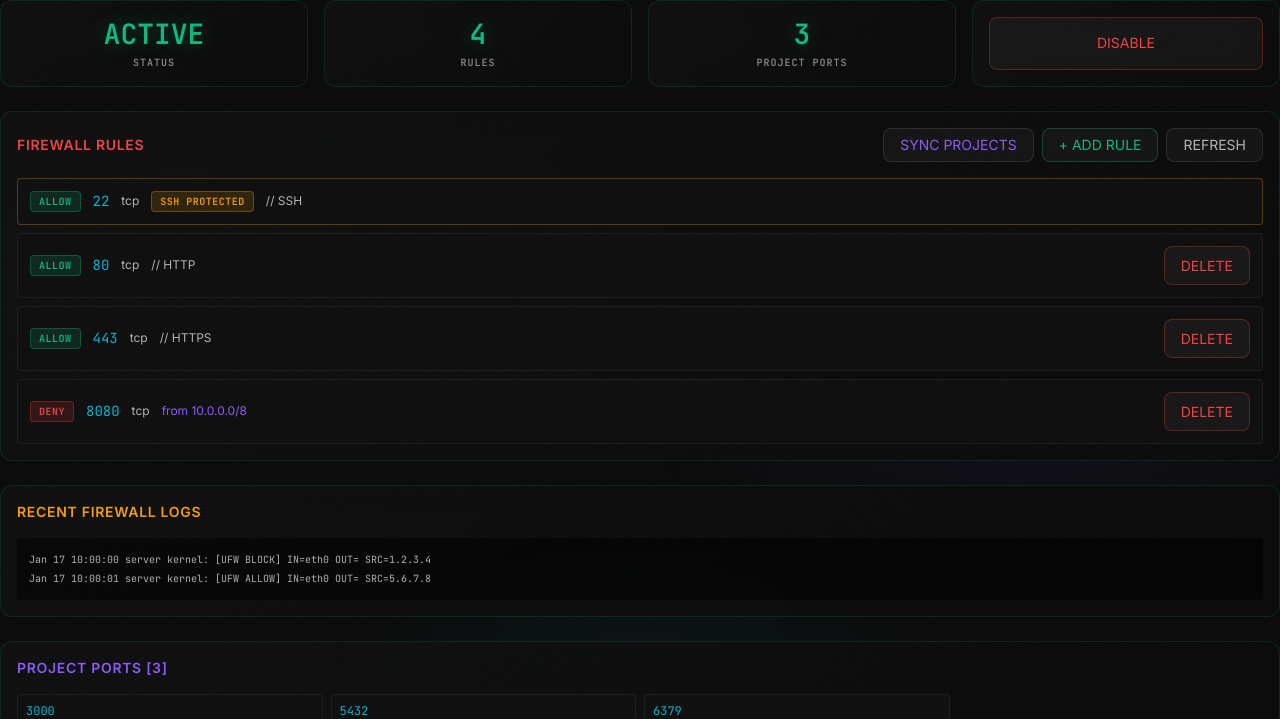
FirewallPane › delete rule › should show success message after deletion
The image size is (1280, 719).
Click the 1st button "DELETE" at (1207, 265), box [1164, 246, 1250, 285]
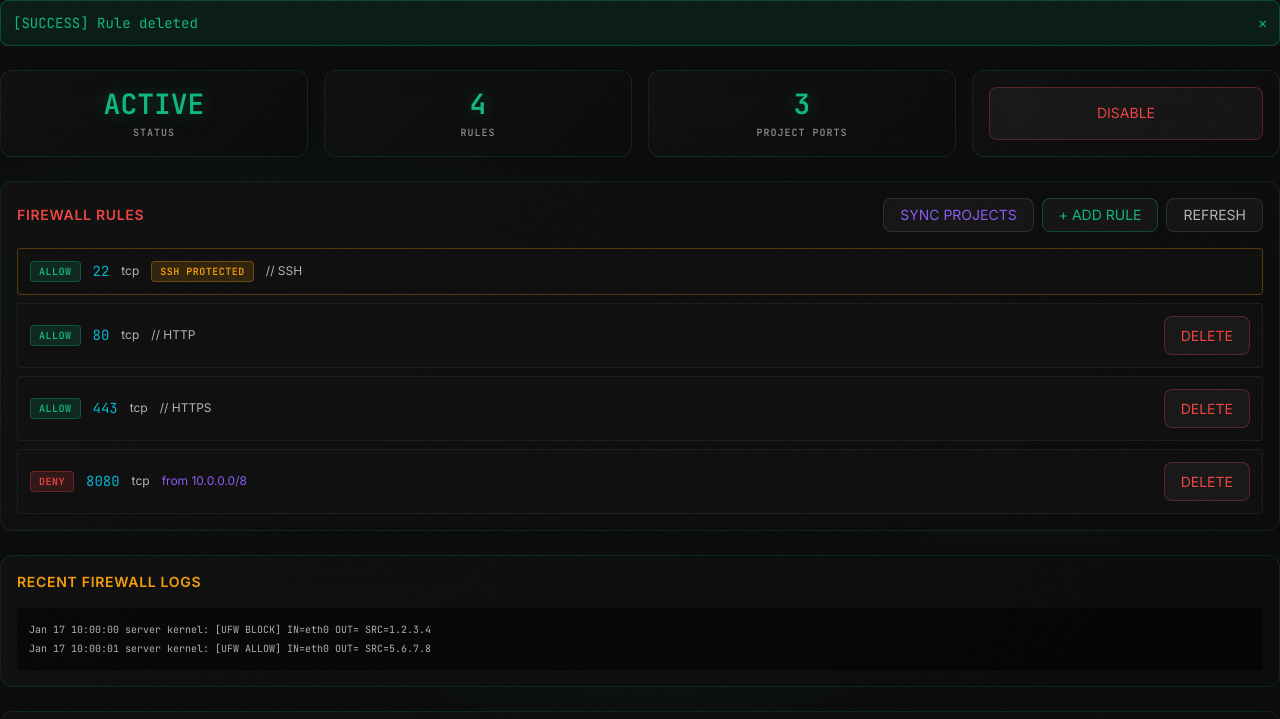
Expected: the text "[SUCCESS] Rule deleted" is shown, [13, 13, 198, 33]
